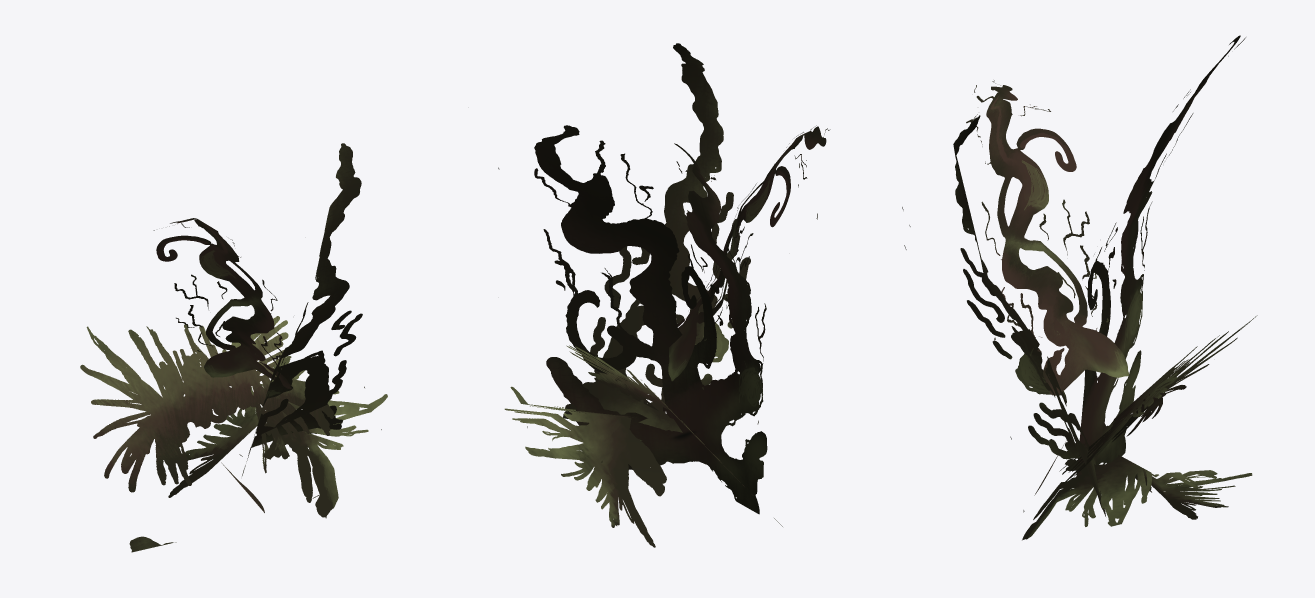
File: WW Bramble Tangle.fbx
3 renders of one model, left to right at view 1: azimuth 30°, elevation 25°; view 2: azimuth 150°, elevation 25°; view 3: azimuth 270°, elevation 25°, orthographic. The views are drawn at different scales.
Visible parts, largest first — view 1: WW_Bramble_Tangle; view 2: WW_Bramble_Tangle; view 3: WW_Bramble_Tangle.
Part boxes in pixels (x1,y1,x2,y2): WW_Bramble_Tangle: [80, 143, 387, 552]; WW_Bramble_Tangle: [498, 43, 830, 547]; WW_Bramble_Tangle: [902, 35, 1257, 540].
Bounding box in the file's own units: 196 × 273 × 212.
